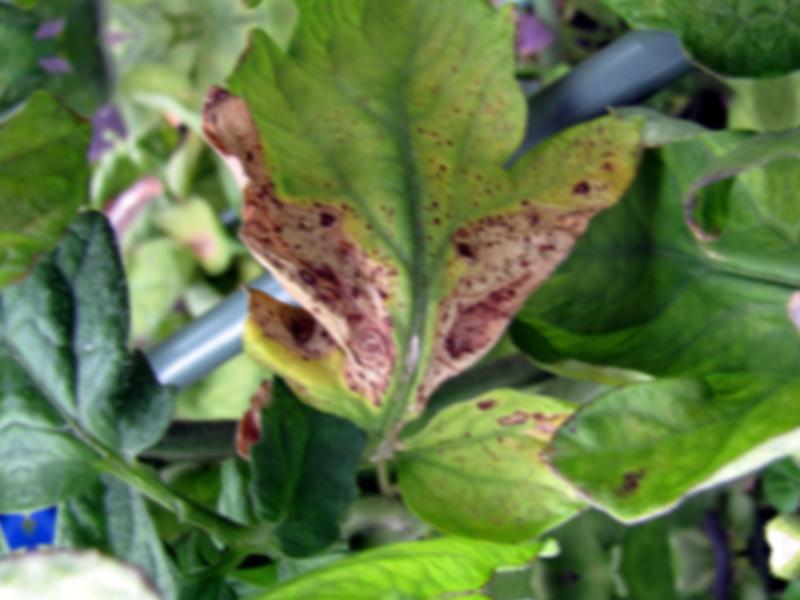Tomato Early blight leaf: (168, 0, 665, 508)
